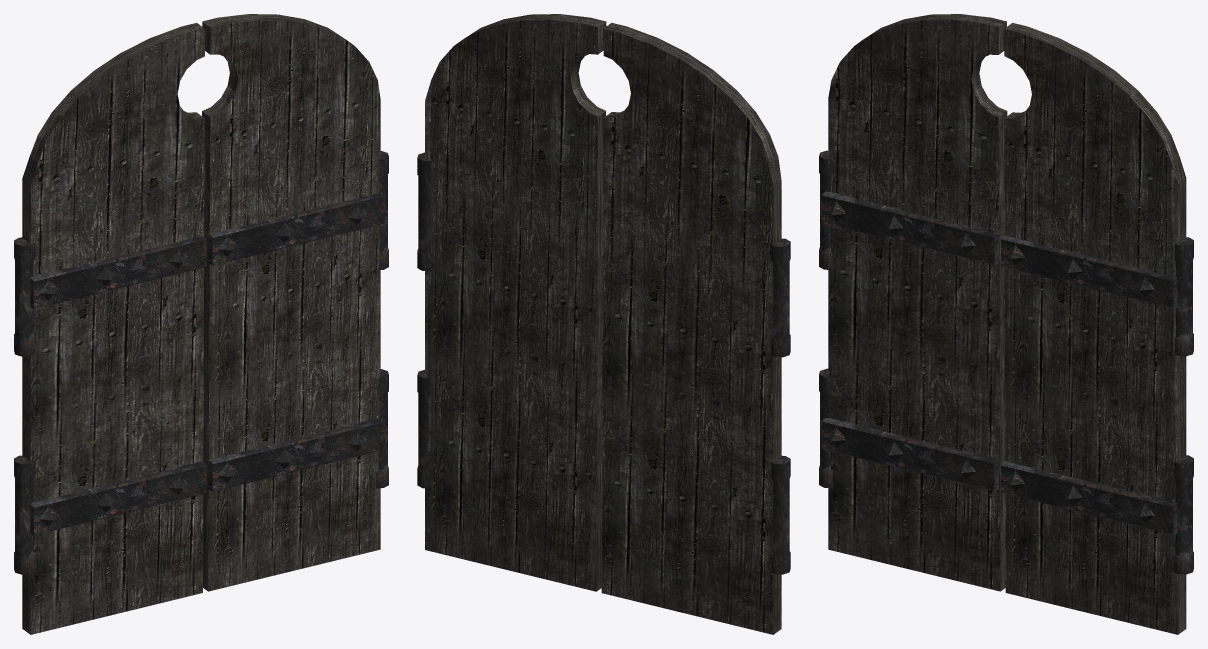
The model's file is Window_Barriers_05.fbx.
3 renders of one model, left to right at view 1: azimuth 30°, elevation 25°; view 2: azimuth 150°, elevation 25°; view 3: azimuth 330°, elevation 25°, orthographic.
Parts seen in each view (by area): view 1: Window_Barriers_05; view 2: Window_Barriers_05; view 3: Window_Barriers_05.
Part boxes in pixels (x1,y1,x2,y2): Window_Barriers_05: [14, 14, 388, 634]; Window_Barriers_05: [417, 14, 790, 634]; Window_Barriers_05: [819, 14, 1193, 634].
Size of the model in its own units: 86.54 by 125 by 7.69.
